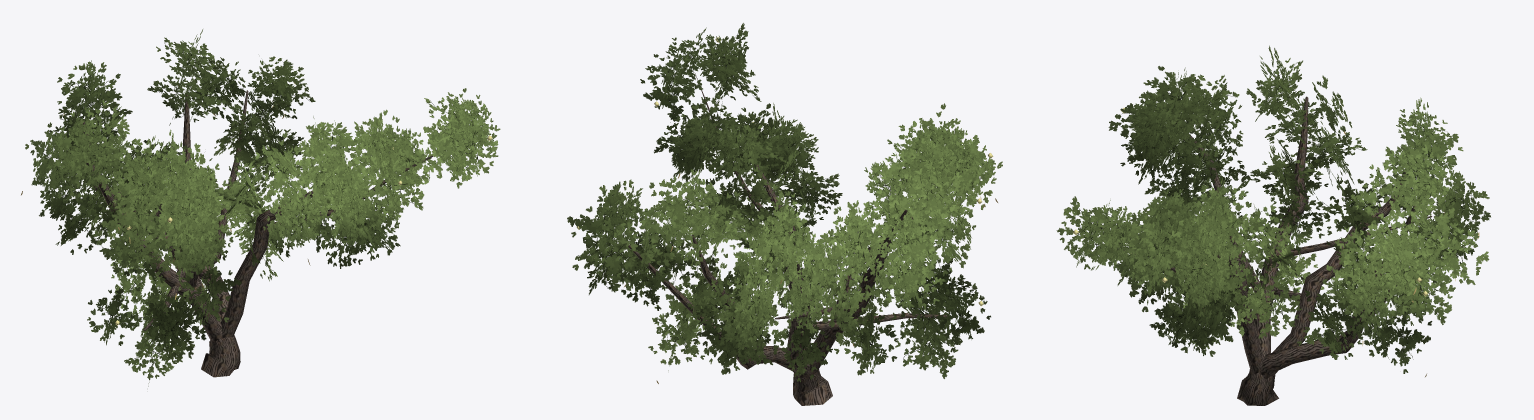
The model's file is old-c.lod1.glb.
3 views of the same model, side by side, from view 1: azimuth 30°, elevation 25°; view 2: azimuth 150°, elevation 25°; view 3: azimuth 270°, elevation 25° (orthographic). The views are drawn at different scales.
Visible parts, largest first — view 1: foliage, bark; view 2: foliage, bark; view 3: foliage, bark.
Part boxes in pixels (bbox=[...]): foliage: bbox=[25, 29, 500, 386]; bark: bbox=[82, 90, 433, 377]; foliage: bbox=[567, 23, 1002, 382]; bark: bbox=[626, 72, 947, 405]; foliage: bbox=[1056, 45, 1490, 373]; bark: bbox=[1124, 96, 1432, 405].
Size of the model in its own units: 13.57 by 9.5 by 13.09.
Materials: 4 (3 with a texture image).
